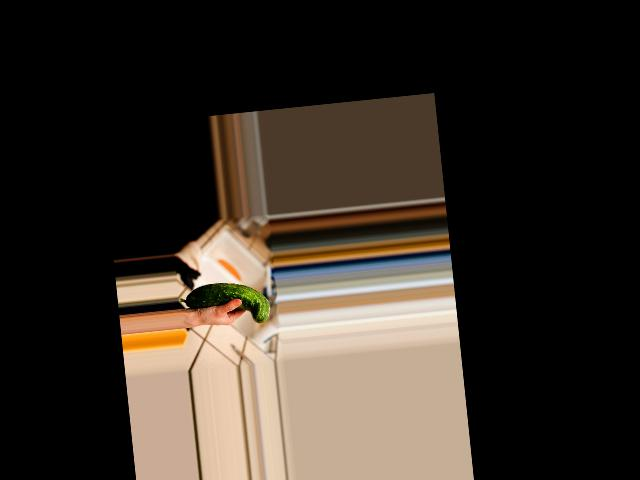cucumber: (177, 277, 271, 331)
